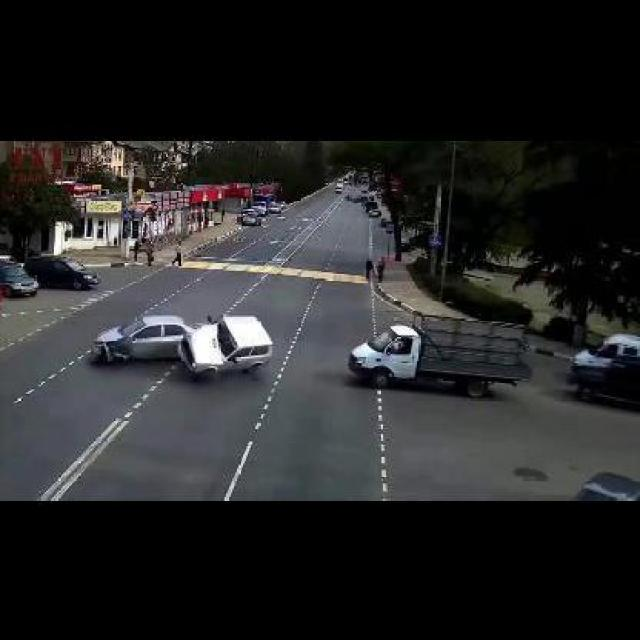accident: (89, 306, 274, 380)
